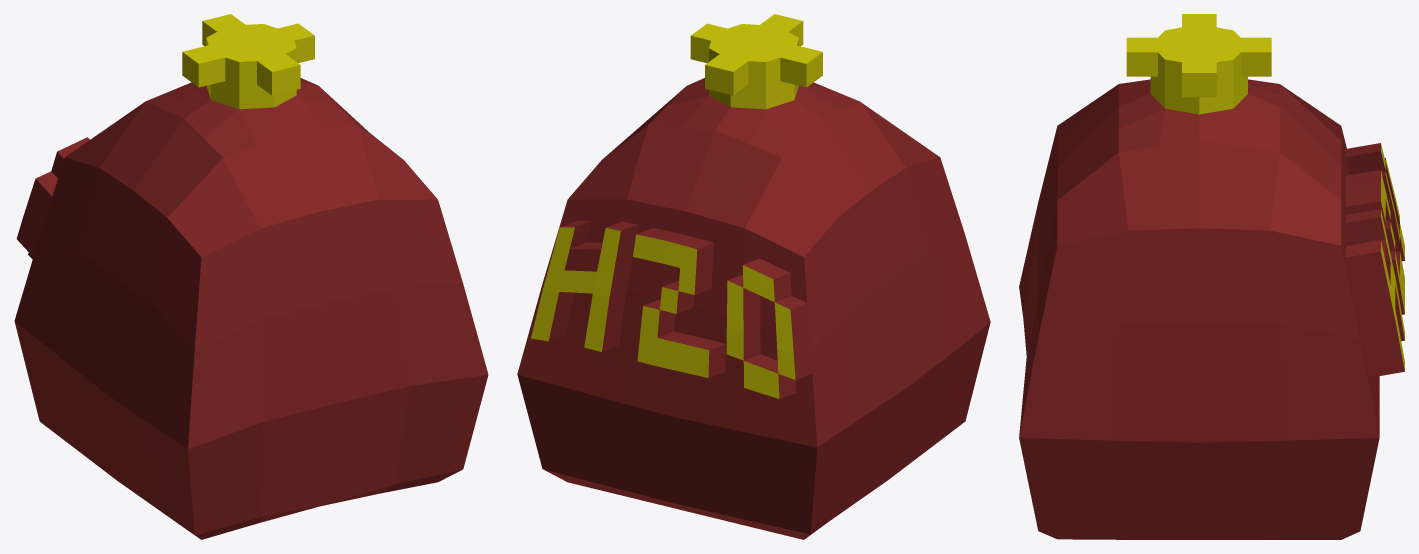
The picture shows the model from 3 angles, left to right: view 1: azimuth 30°, elevation 25°; view 2: azimuth 150°, elevation 25°; view 3: azimuth 270°, elevation 25°; orthographic projection. The views are drawn at different scales.
Parts seen in each view (by area): view 1: Cube; view 2: Cube; view 3: Cube.
Boxes of the visible parts, box(x1,y1,x2,y2) form: Cube: box(14, 14, 488, 539); Cube: box(517, 14, 990, 539); Cube: box(1019, 14, 1404, 539).
Bounding box in the file's own units: 2 × 2.66 × 2.14.
